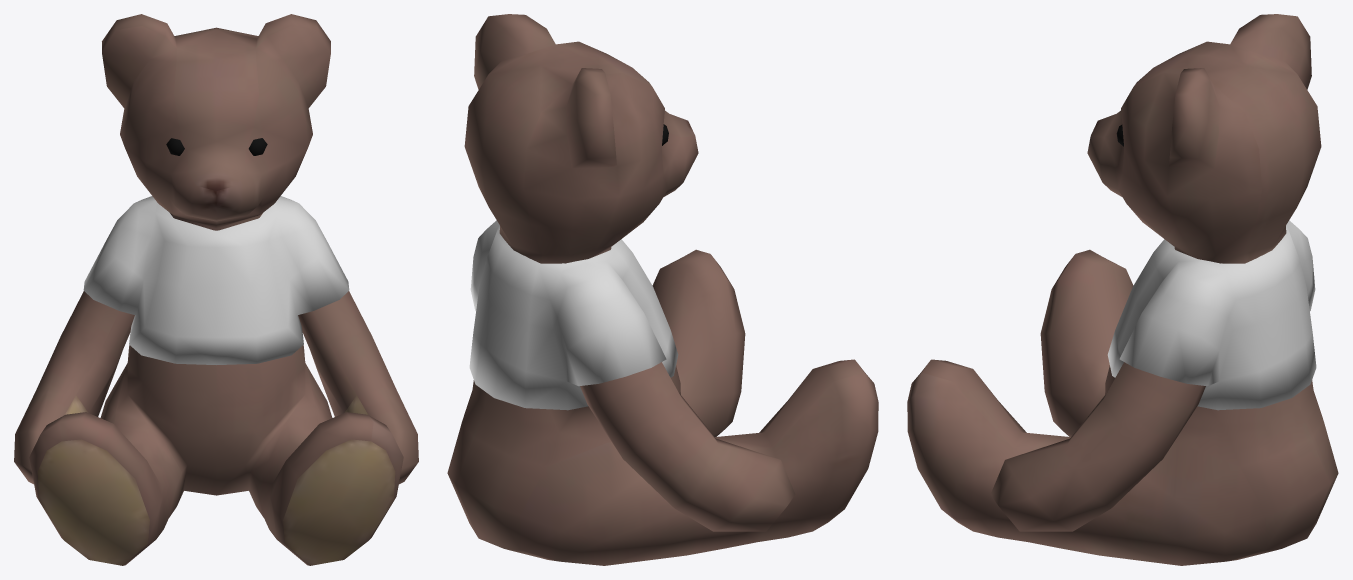
3 views of the same model, side by side, from view 1: azimuth 30°, elevation 25°; view 2: azimuth 150°, elevation 25°; view 3: azimuth 270°, elevation 25° (orthographic). The views are drawn at different scales.
Size of the model in its own units: 9.66 by 11.94 by 9.44.
Materials: 2 (2 with a texture image).
